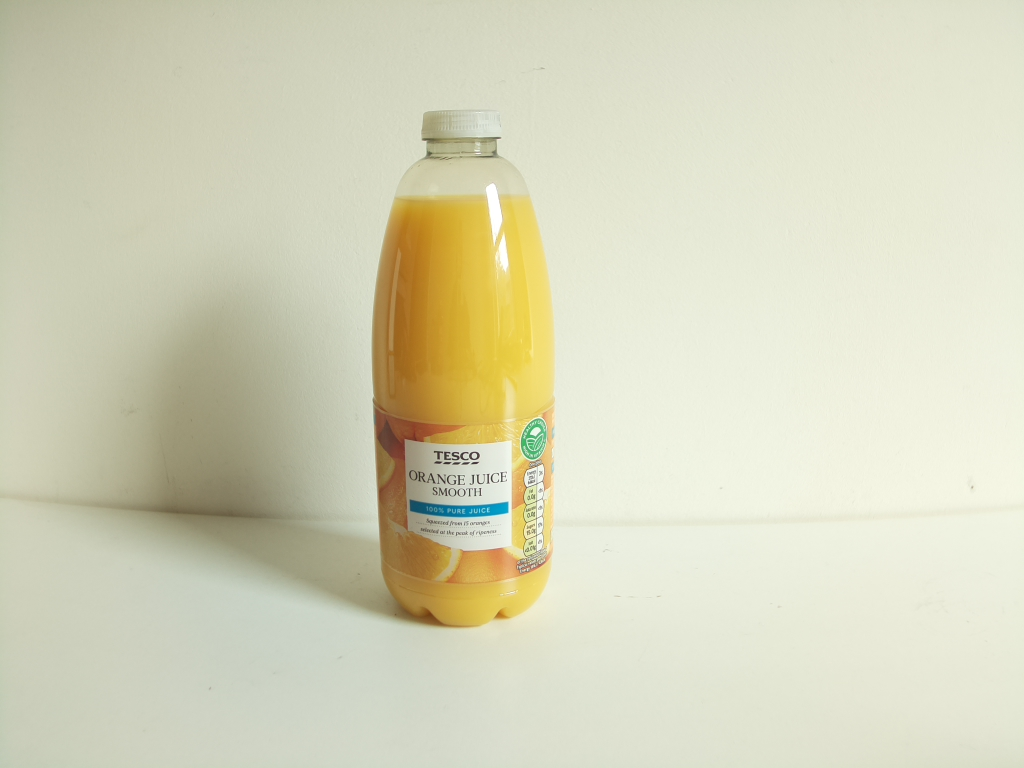juice: (368, 101, 561, 628)
